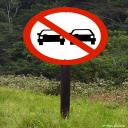NoUltrapassar: (20, 4, 112, 66)
